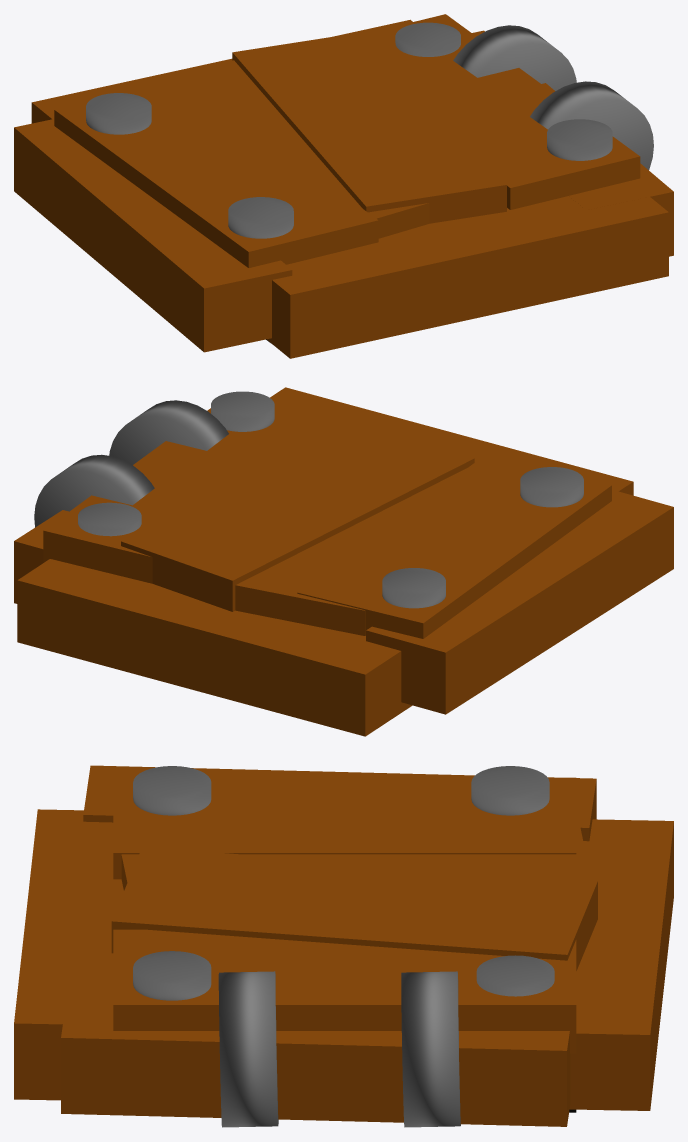
File: opening.glb
3 renders of one model, top to bottom at view 1: azimuth 30°, elevation 25°; view 2: azimuth 150°, elevation 25°; view 3: azimuth 270°, elevation 25°, orthographic. The views are drawn at different scales.
Parts seen in each view (by area): view 1: Cube, Cylinder; view 2: Cube, Cylinder; view 3: Cube, Cylinder.
Part boxes in pixels (x1,y1,x2,y2): Cube: [54, 14, 640, 267]; Cylinder: [14, 19, 673, 358]; Cube: [43, 391, 611, 638]; Cylinder: [14, 387, 673, 736]; Cube: [111, 766, 597, 1053]; Cylinder: [14, 765, 673, 1127].
Bounding box in the file's own units: 4.75 × 1.13 × 4.53.
